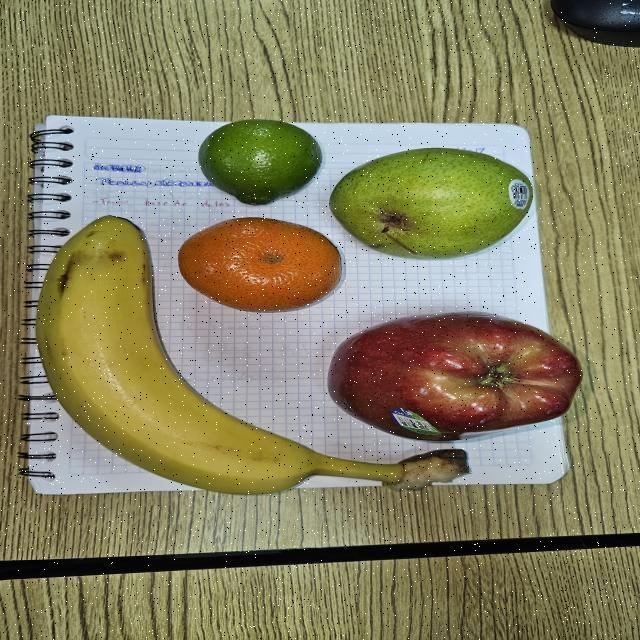Apel Merah: (324, 304, 590, 446)
Jeruk Mandarin: (175, 216, 356, 315)
Lemon: (193, 108, 328, 214)
Pir: (327, 146, 543, 266)
Pisang: (34, 212, 492, 500)
